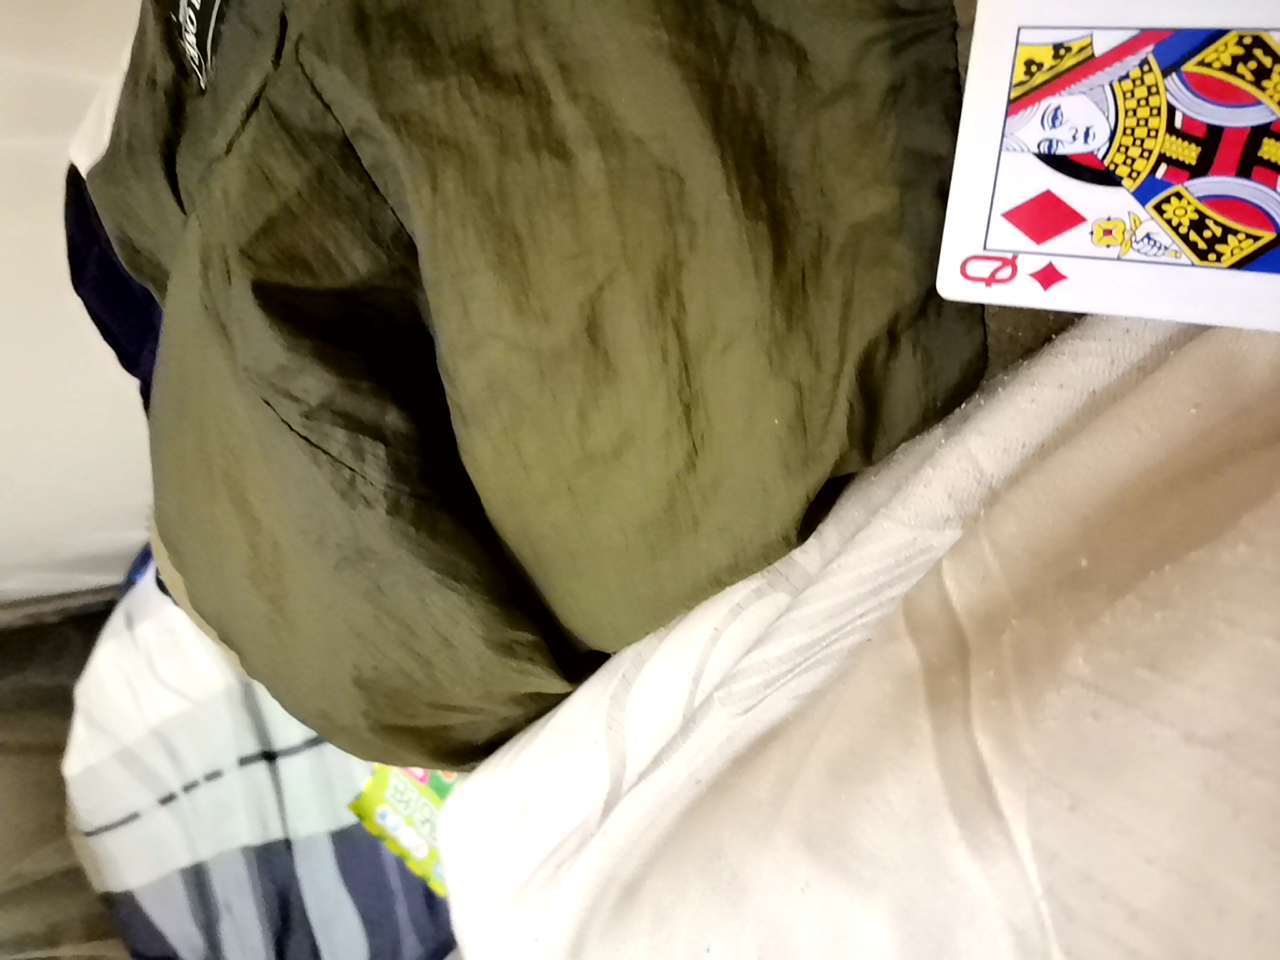fk q: (934, 6, 1280, 358)
